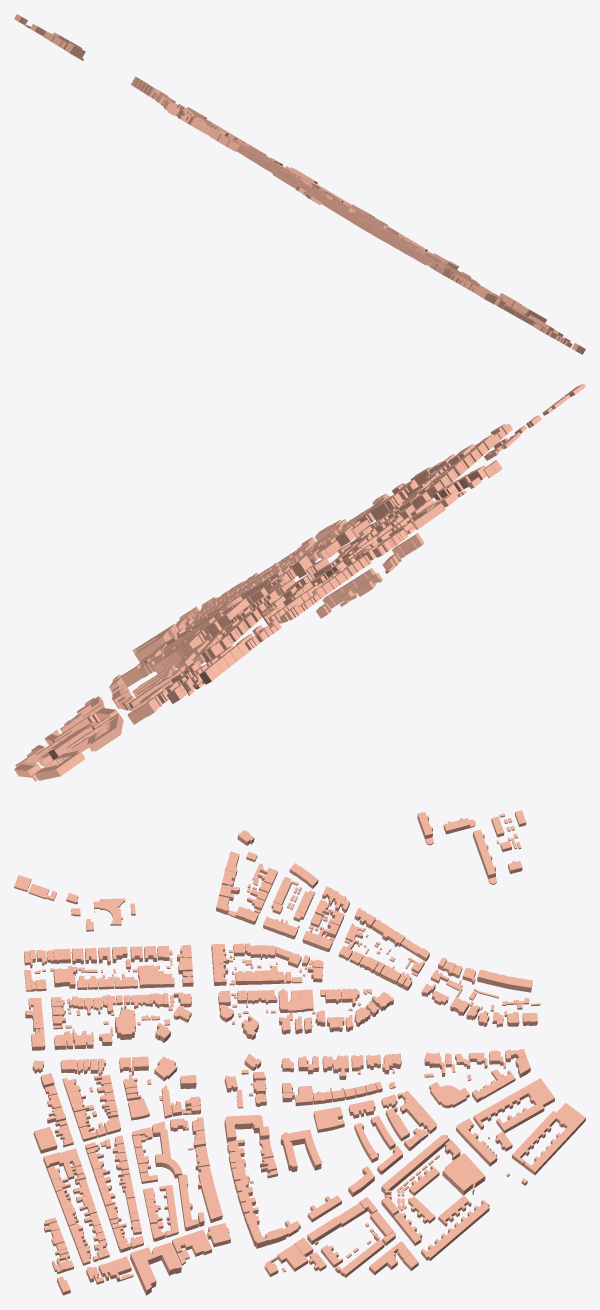
3 renders of one model, top to bottom at view 1: azimuth 30°, elevation 25°; view 2: azimuth 150°, elevation 25°; view 3: azimuth 270°, elevation 25°, orthographic. The views are drawn at different scales.
Size of the model in its own units: 535 by 392 by 674.
